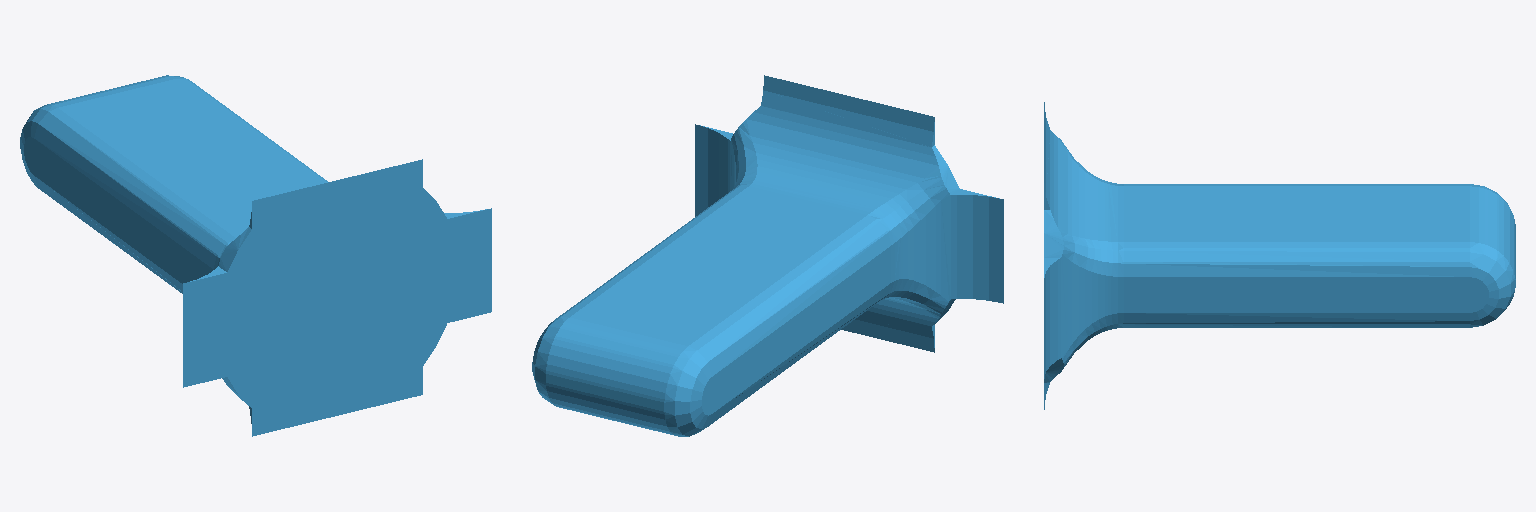
URDF robot description (indenter):
<robot name="indenter">
	<link name="world">
        </link>

        <joint name="world_to_indenter" type="prismatic">
                <parent link="world"/>
                <child link="indenter"/>
                <origin rpy="0.0 0.0 0.0" xyz="0.0 0.0 0.0"/>
                <axis xyz="0 1 0"/>
                <dynamics damping="0.0" friction="0.0"/>
                <limit lower="0.0" upper="0.1" velocity="1e9" effort="1e9"/>
        </joint>

	<link name="indenter">
		<visual>
			<origin rpy="0.0 0.0 0.0" xyz="0.0 0.0 0.0"/>
			<geometry>
				<mesh filename="../../meshes/indenters/cylinder_short_3-5mm.obj"/>
			</geometry>
		</visual>
		<collision>
			<origin rpy="0.0 0.0 0.0" xyz="0.0 0.0 0.0"/>
			<geometry>
				<mesh filename="../../meshes/indenters/cylinder_short_3-5mm.obj"/>
			</geometry>
		</collision>
		<inertial>
			<origin rpy="0.0 0.0 0.0" xyz="0.0 -9.97033e-3 0.0"/>
			<mass value="0.00057536"/>
			<inertia ixx="1.73872e-8" iyy="3.30933e-9" izz="1.91749e-8" ixy="0.0" ixz="8.89320e-15" iyz="0.0"/>
		</inertial>
	</link>
</robot>

--- Facts derived from the render (not from the file) ---
Views: 3 orthographic renders of the robot side by side, from view 1: azimuth 30°, elevation 25°; view 2: azimuth 150°, elevation 25°; view 3: azimuth 270°, elevation 25°.
Model indenter with 2 links and 1 joints (1 prismatic), rooted at world, posed every joint at zero.
Links seen in each view (by area): view 1: indenter; view 2: indenter; view 3: indenter.
Link boxes in pixels (<box>): indenter: <box>20,75,491,436</box>; indenter: <box>532,75,1003,436</box>; indenter: <box>1044,102,1515,409</box>.
Size in the robot's own frame: 0.013 by 0.0178 by 0.0095 metres.
Meshes: 1 distinct files referenced, 1 mesh visuals loaded (1 OBJ).